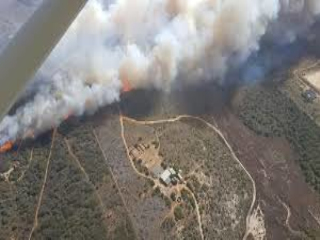fire: (1, 137, 20, 155), (122, 73, 135, 95)
smoke: (184, 5, 276, 85), (145, 31, 179, 98)
